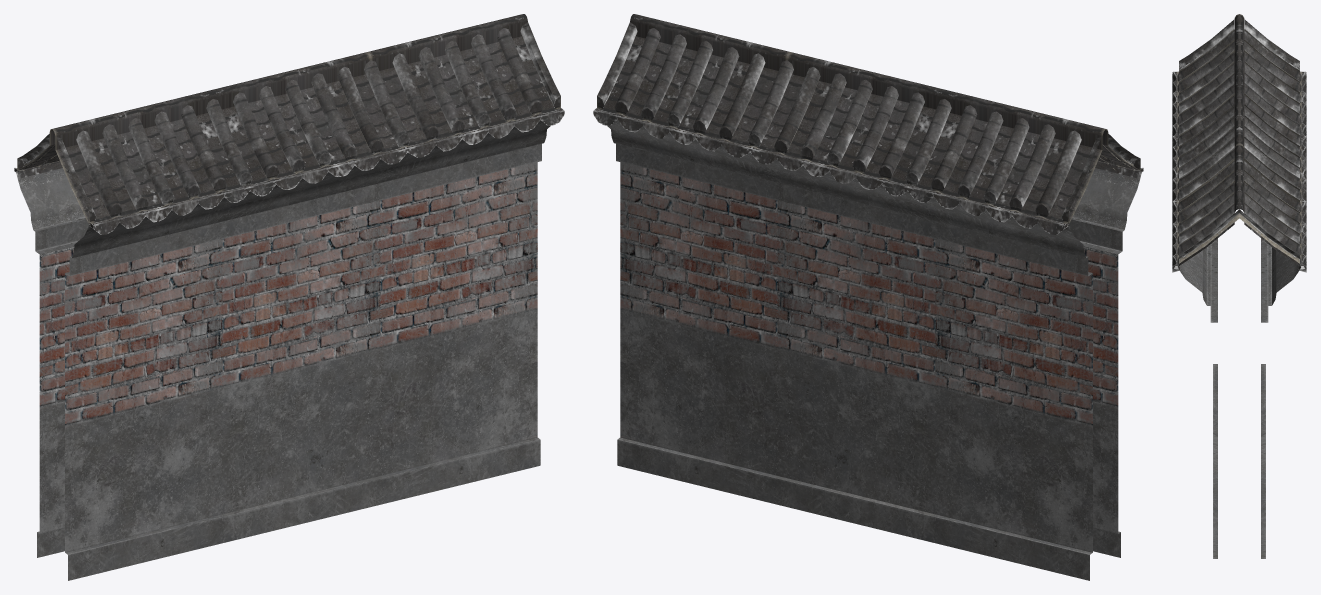
File: hutong_wall_a.fbx
3 renders of one model, left to right at view 1: azimuth 30°, elevation 25°; view 2: azimuth 150°, elevation 25°; view 3: azimuth 270°, elevation 25°, orthographic. The views are drawn at different scales.
Parts seen in each view (by area): view 1: geo_wall_a; view 2: geo_wall_a; view 3: geo_wall_a.
Part boxes in pixels (left/top/right/bottom): geo_wall_a: left=14, top=14, right=564, bottom=580; geo_wall_a: left=593, top=14, right=1143, bottom=580; geo_wall_a: left=1172, top=14, right=1306, bottom=558.
Size of the model in its own units: 380 by 338 by 111.
2 materials, 2 textured.
